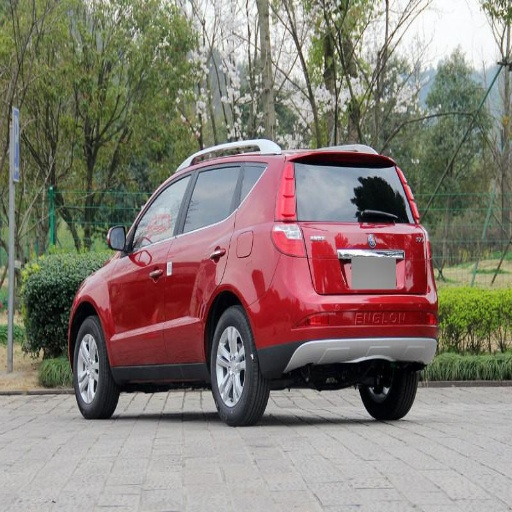back_bumper: (253, 256, 438, 370)
back_glass: (293, 159, 400, 216)
back_left_door: (165, 163, 240, 360)
trunk: (287, 201, 426, 311)
